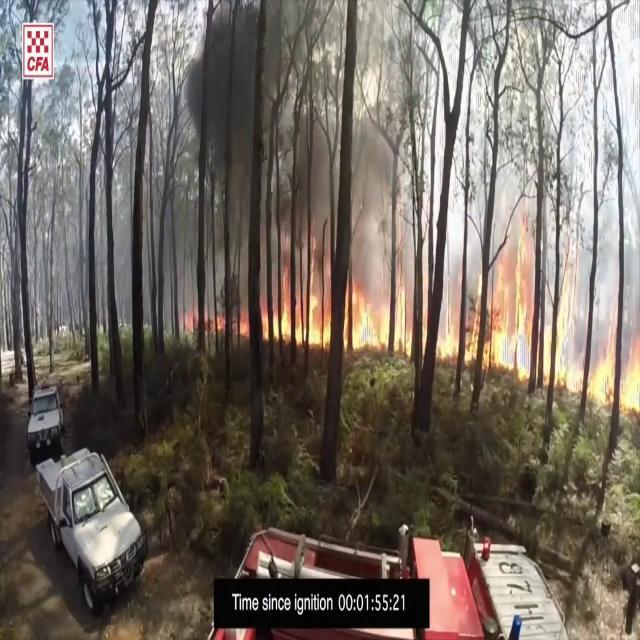Fire: (434, 204, 640, 410), (277, 256, 409, 358)
Smoke: (168, 0, 398, 321)
